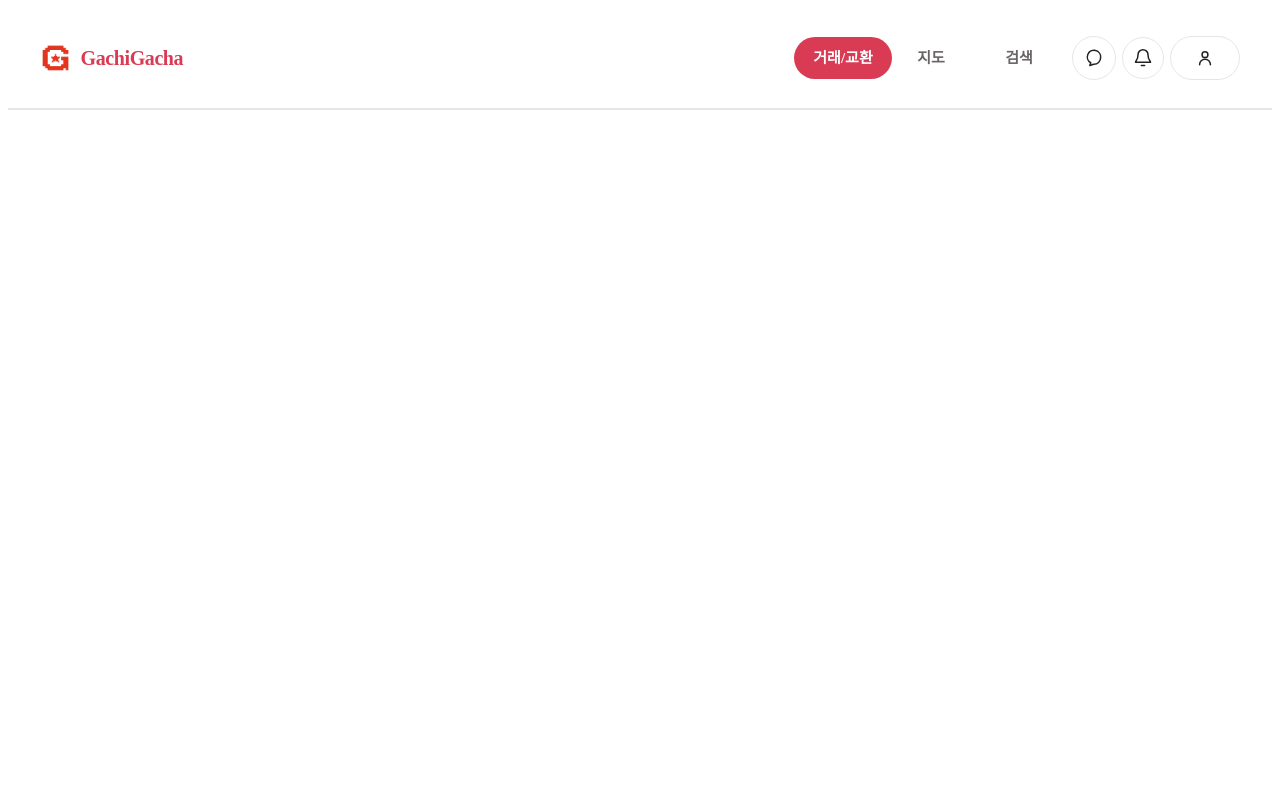
Test case: AppHeader › Escape로 팝오버를 닫으면 알림 버튼으로 포커스를 돌려준다
Click the button named "알림" at (1143, 58), box [1122,37,1164,79]
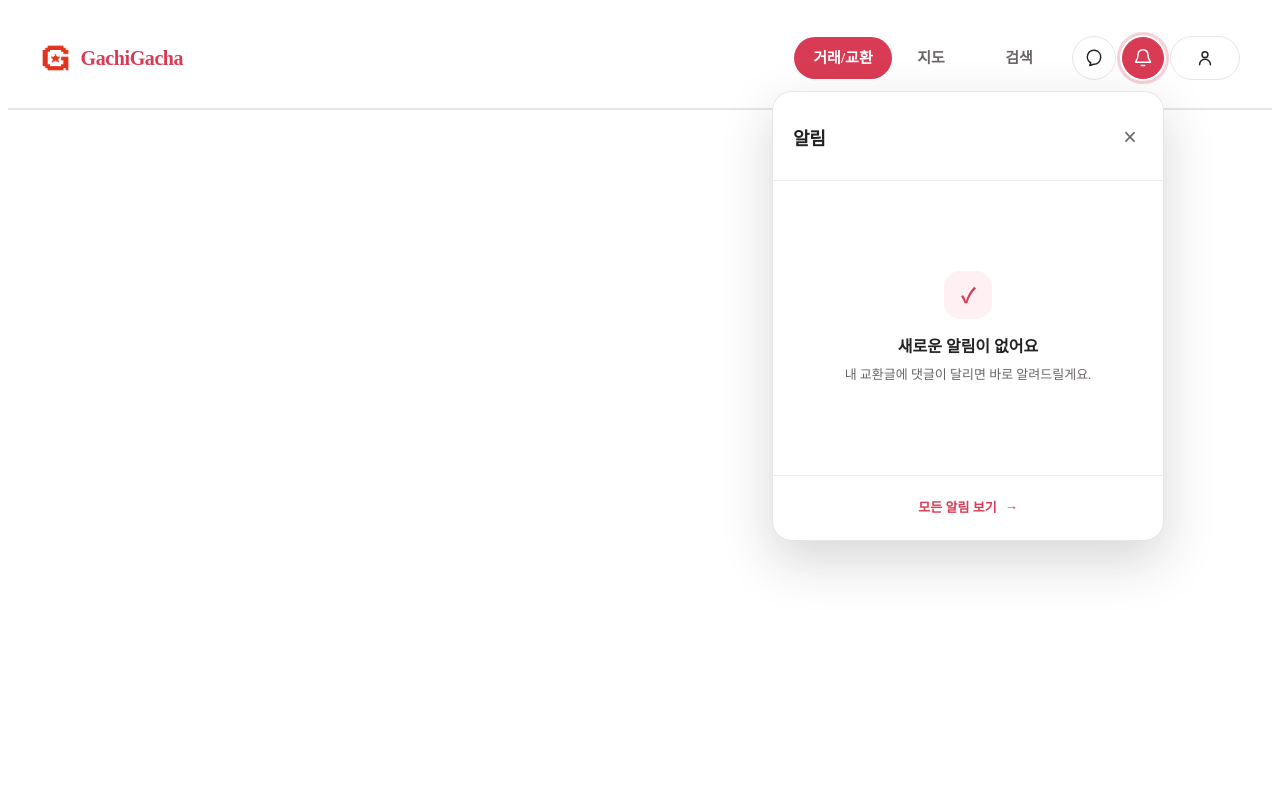
Press Tab
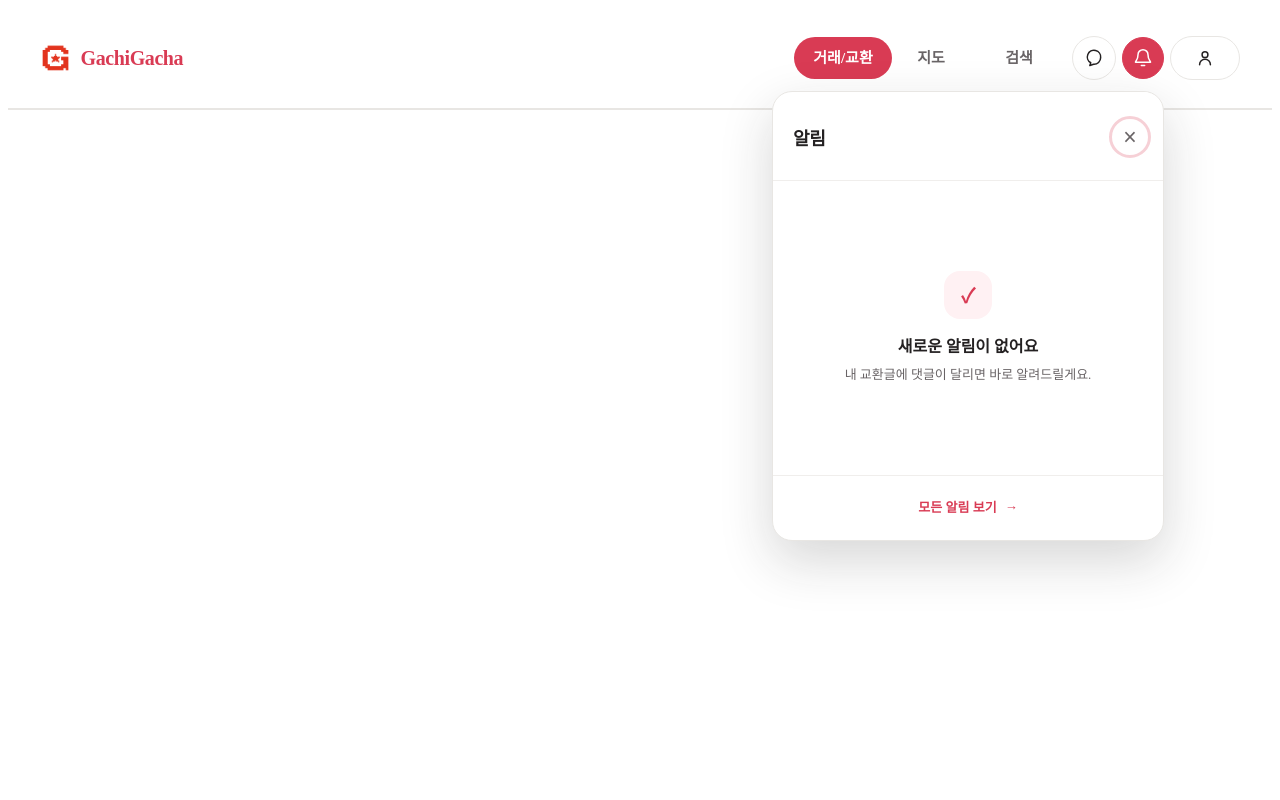
Press Escape
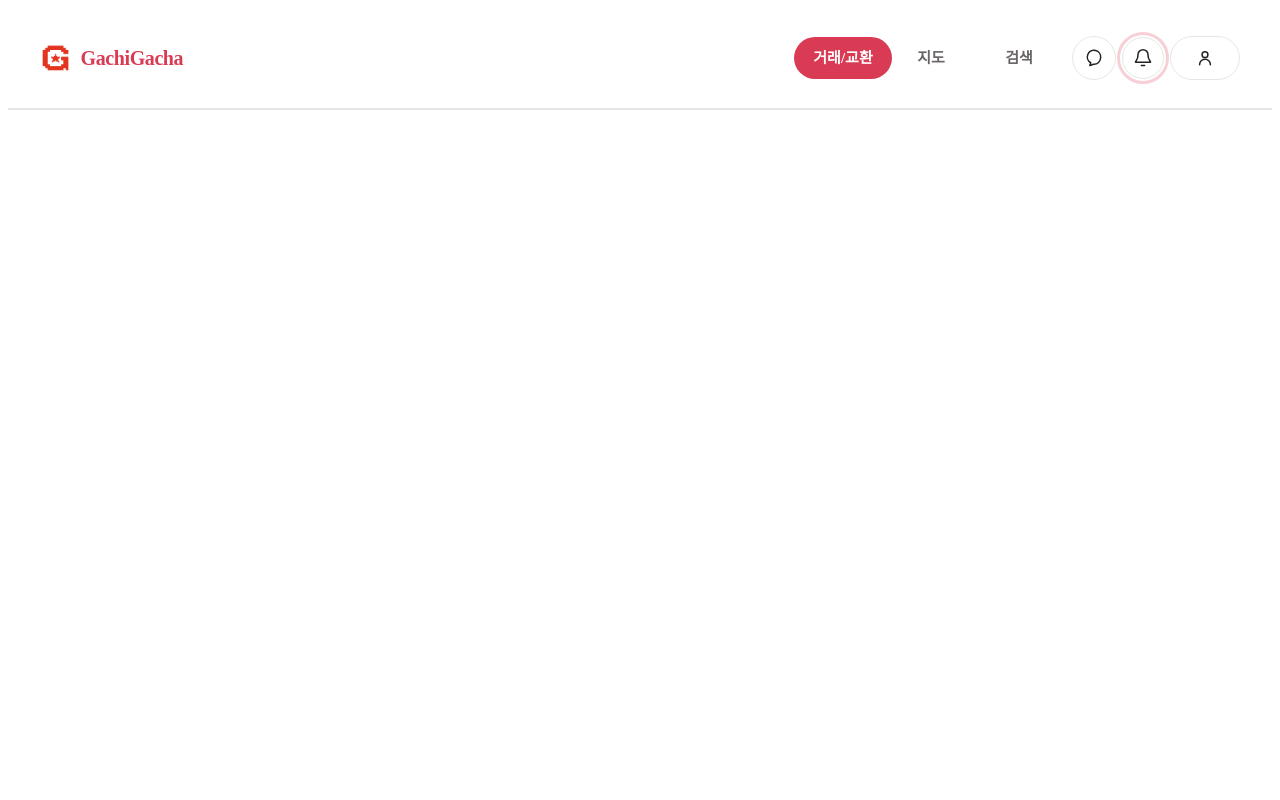
Expected: the heading "알림" is gone
